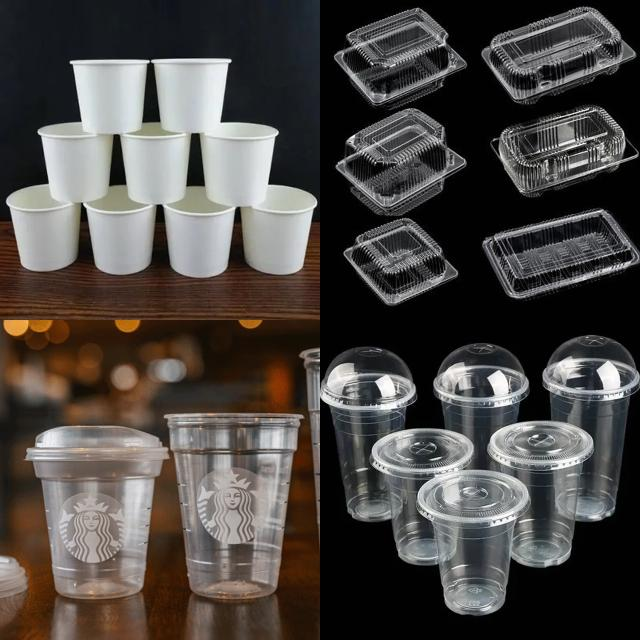Single-Use-Plastic: (166, 414, 302, 600), (26, 426, 169, 599), (542, 335, 640, 521), (320, 346, 416, 521), (416, 470, 530, 616), (488, 422, 594, 567), (481, 8, 636, 104), (482, 209, 640, 299), (370, 430, 474, 566), (336, 109, 466, 215), (491, 105, 639, 197), (335, 8, 466, 109), (434, 344, 529, 469), (344, 218, 458, 304), (241, 185, 318, 274), (200, 122, 279, 206), (6, 184, 81, 271), (164, 186, 235, 277), (84, 185, 156, 274), (38, 122, 114, 202), (70, 59, 149, 134), (120, 122, 191, 204), (153, 59, 231, 133)
